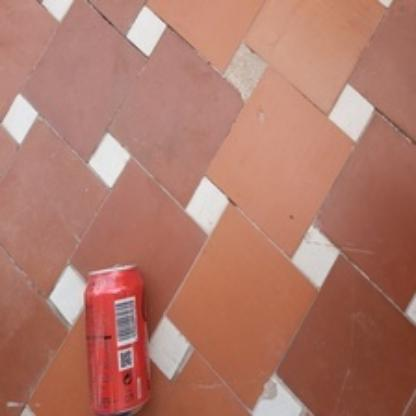Can: (82, 264, 154, 416)
